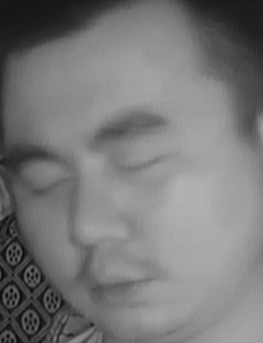blink: (115, 146, 173, 184), (23, 166, 74, 201)
mouth: (75, 254, 166, 311)
